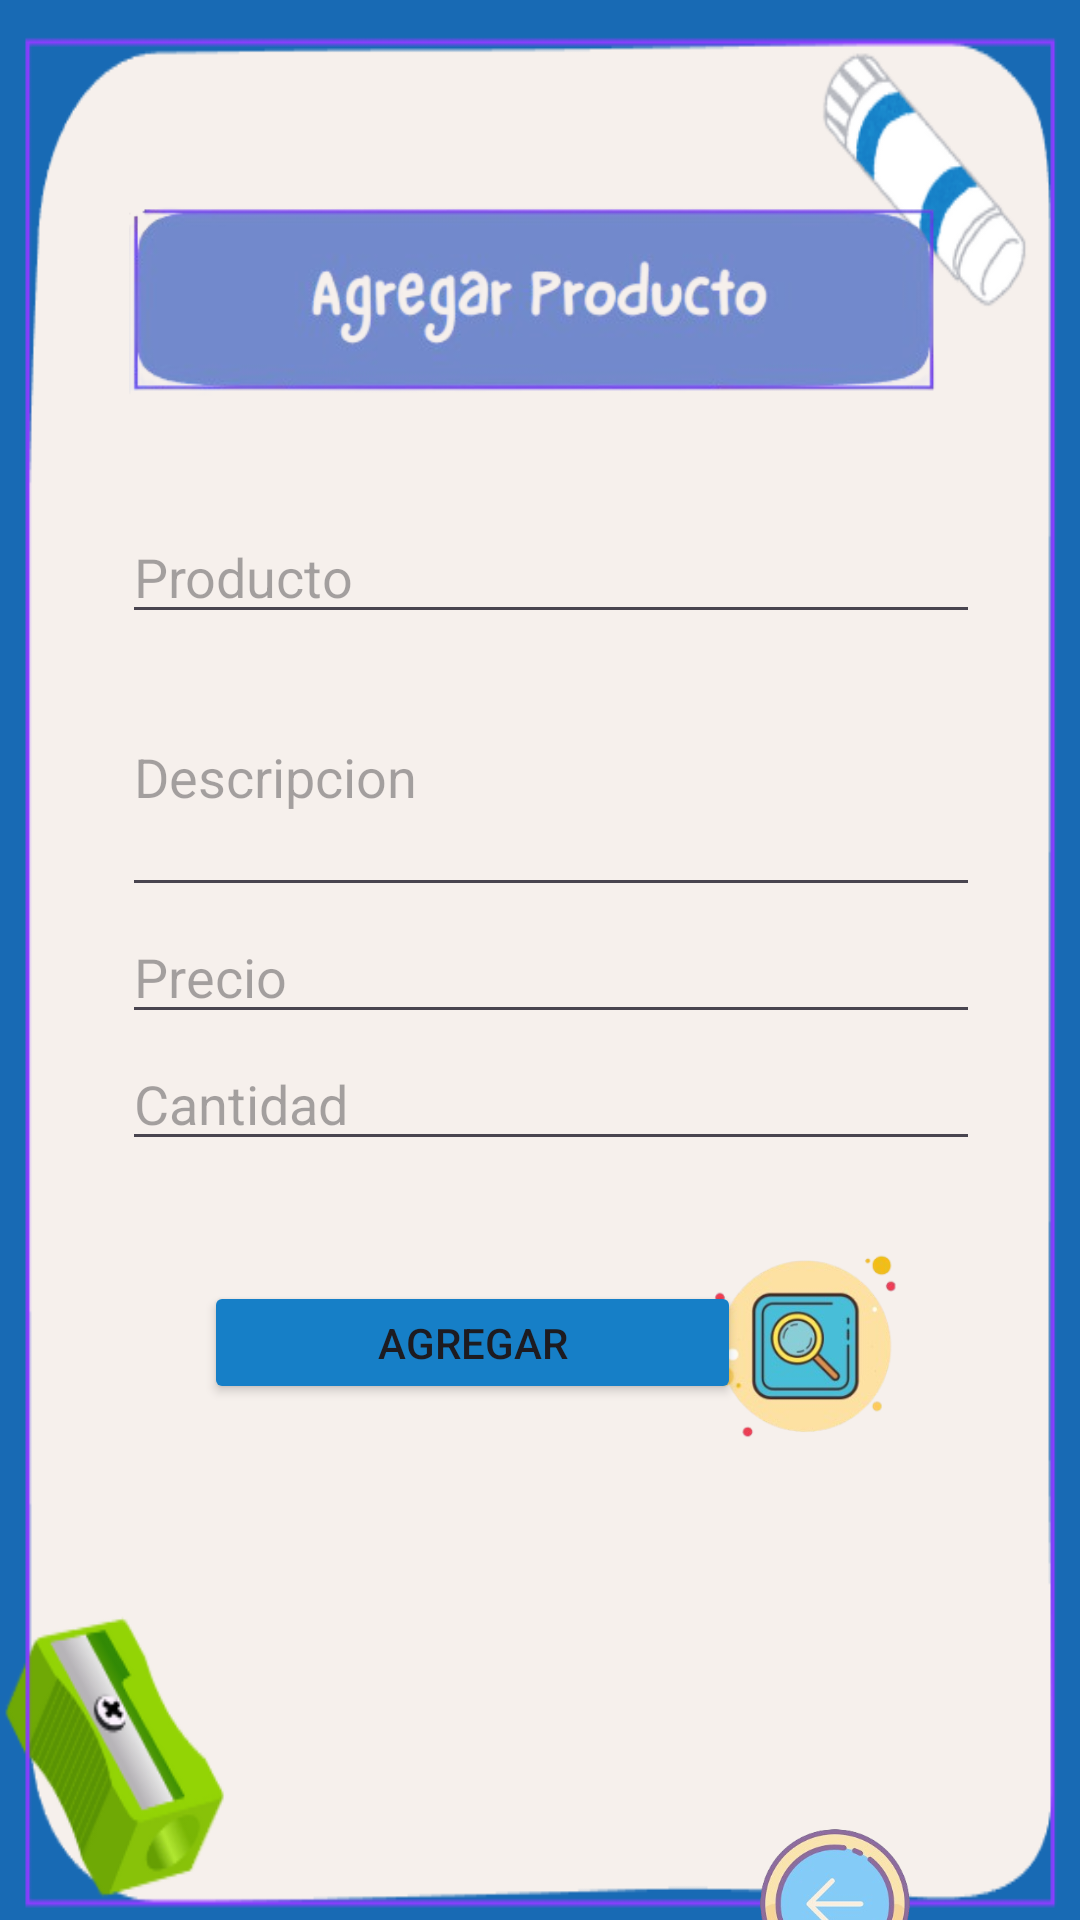

Icons on this 1080×1920 Android screen, each with the point to tap as (x=x, y=y):
search: (x=799, y=1346)
